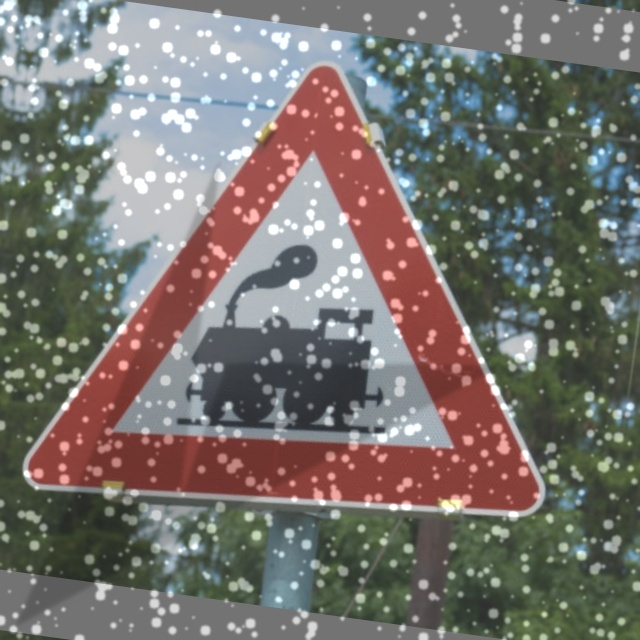Unguarded_Level_Crossing: (40, 34, 587, 543)
